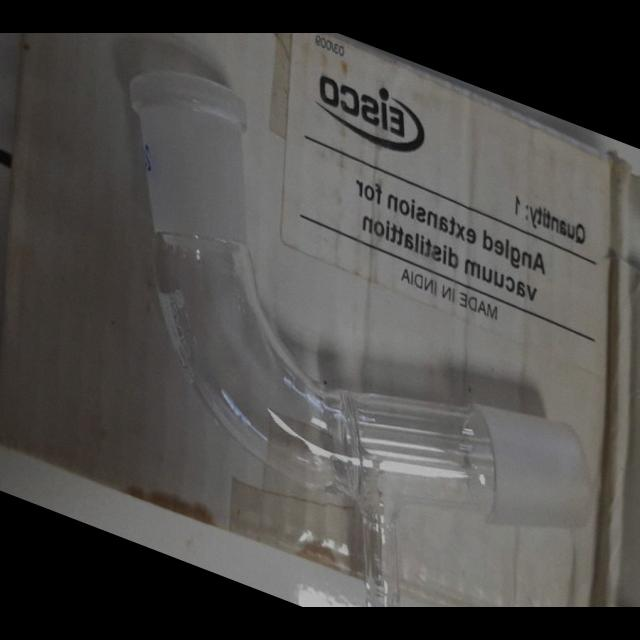Angled Extension for Vacuum Distillation: (108, 44, 608, 607)
